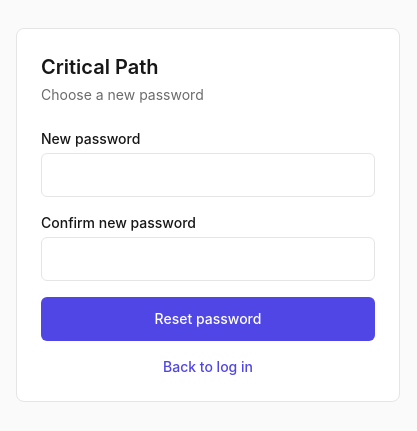
ResetPassword › requires the passwords to match, and says so on the confirm field
This screenshot has width=417, height=431.
In the password field labelled "New password": [208, 175] box [41,153,375,197], type "newpass12"
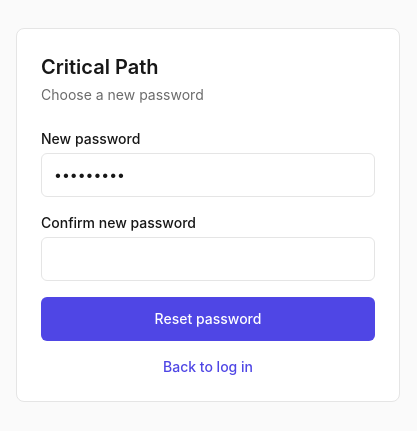
In the password field labelled "Confirm new password": [208, 259] box [41,237,375,281], type "mismatch12"
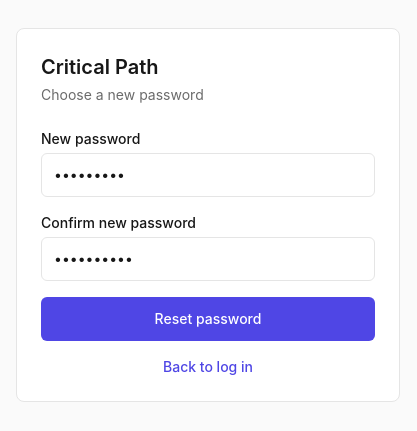
Click the button "Reset password": [208, 319] box [41,297,375,341]
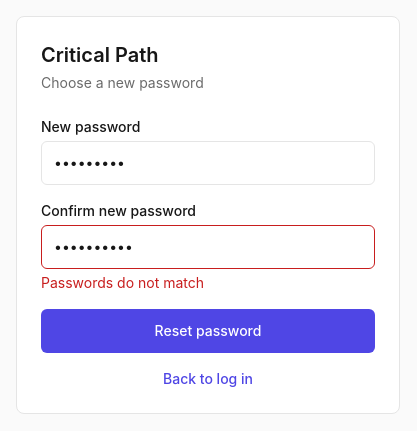
Check: the text "Passwords do not match" is shown, box [41,274,204,291]
